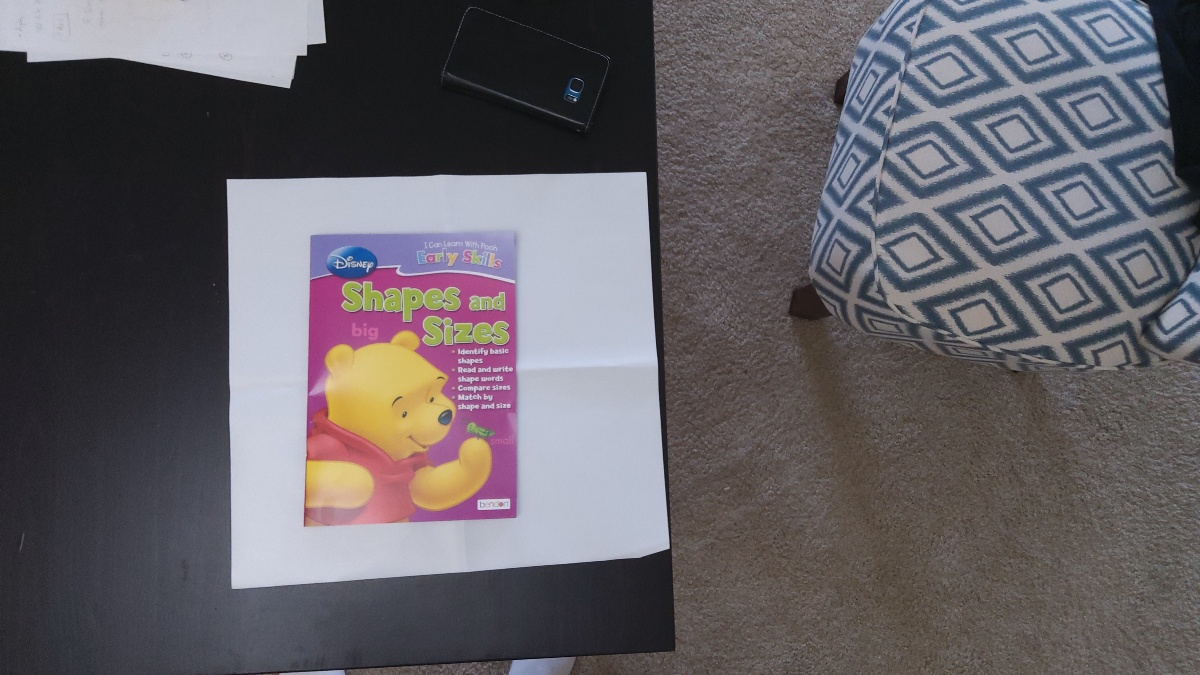book: (310, 236, 515, 519)
